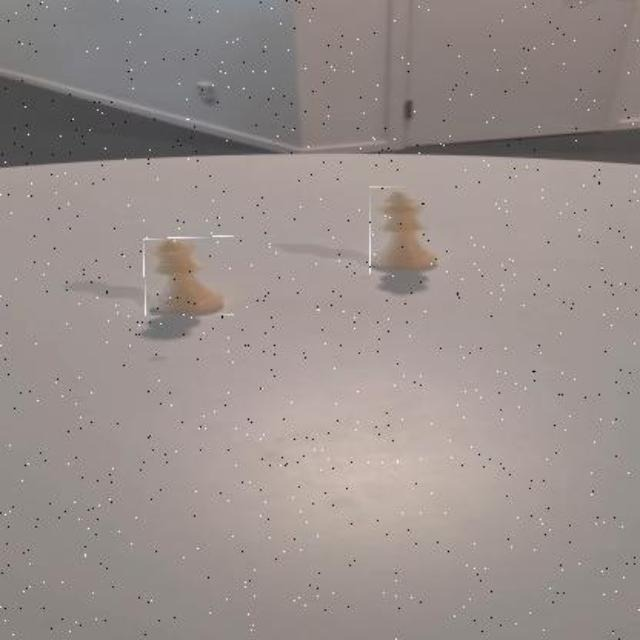white-king: (370, 187, 445, 276)
white-queen: (145, 236, 235, 316)
